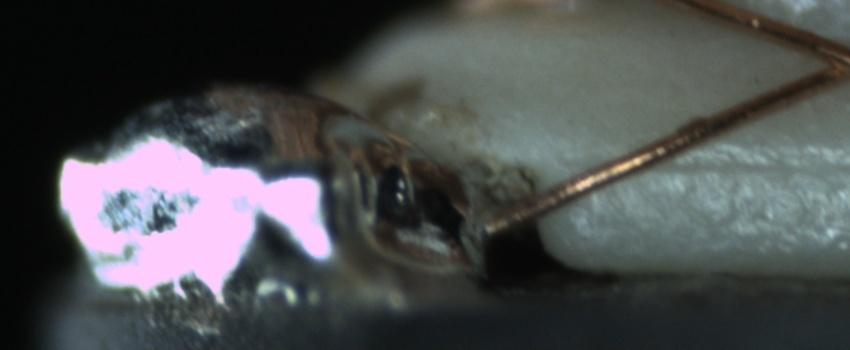CL: (797, 31, 850, 92)
DL: (613, 130, 844, 200)
